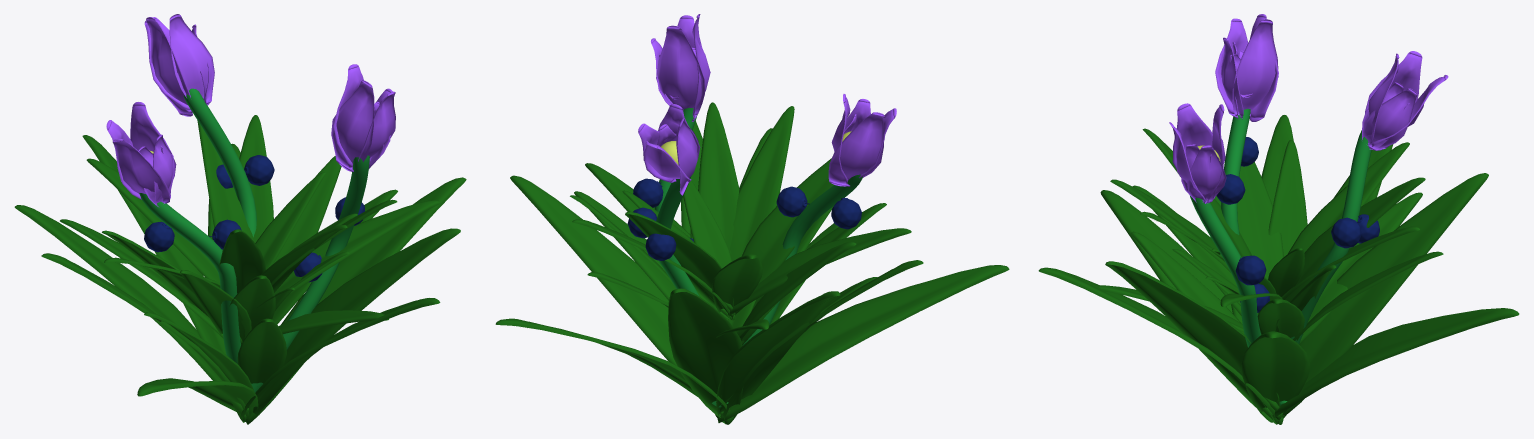
Rendered from Grass0.3.1.fbx.
3 renders of one model, left to right at view 1: azimuth 30°, elevation 25°; view 2: azimuth 150°, elevation 25°; view 3: azimuth 270°, elevation 25°, orthographic.
Visible parts, largest first — view 1: Leaf.009, Leaf.003, Leaf, Branch.002, Branch.001, petal.008, Branch, Leaf.032, petal.004, Leaf.006, Leaf.004, Leaf.039 (+29 smaller); view 2: Leaf.002, Leaf, Leaf.004, Leaf.033, Leaf.003, Leaf.038, petal.007, Leaf.034, petal.015, Leaf.035, Leaf.039, Leaf.005 (+23 smaller); view 3: Leaf.004, Leaf.009, Leaf.005, Leaf, Leaf.035, Leaf.002, Leaf.024, petal.014, Branch.001, Leaf.030, Branch, Leaf.001 (+30 smaller).
Part boxes in pixels (x1,y1,x2,y2): Leaf.009: [253, 228, 460, 414]; Leaf.003: [14, 205, 245, 416]; Leaf: [246, 177, 466, 424]; Branch.002: [139, 193, 240, 363]; Branch.001: [251, 155, 369, 392]; petal.008: [331, 80, 374, 171]; Branch: [183, 88, 256, 237]; Leaf.032: [274, 200, 440, 295]; petal.004: [169, 14, 214, 105]; Leaf.006: [237, 318, 286, 383]; Leaf.004: [82, 135, 243, 421]; Leaf.039: [197, 120, 253, 249]; Leaf.002: [717, 265, 1009, 422]; Leaf: [510, 175, 723, 414]; Leaf.004: [668, 288, 743, 420]; Leaf.033: [730, 106, 794, 315]; Leaf.003: [716, 291, 840, 422]; Leaf.038: [698, 102, 739, 319]; petal.007: [656, 25, 704, 114]; Leaf.034: [735, 158, 833, 313]; petal.015: [828, 112, 885, 186]; Leaf.035: [728, 228, 911, 315]; Leaf.039: [625, 212, 733, 320]; Leaf.005: [495, 318, 731, 417]; Leaf.004: [1283, 173, 1488, 415]; Leaf.009: [1105, 261, 1280, 424]; Leaf.005: [1272, 308, 1519, 417]; Leaf: [1241, 331, 1310, 422]; Leaf.035: [1237, 162, 1283, 279]; Leaf.002: [1100, 190, 1283, 424]; Leaf.024: [1268, 140, 1307, 256]; petal.014: [1232, 19, 1278, 116]; Branch.001: [1190, 196, 1282, 405]; Leaf.030: [1288, 142, 1409, 253]; Branch: [1291, 130, 1371, 343]; Leaf.001: [1038, 267, 1275, 418].
Size of the model in its own units: 1342 by 1124 by 1344.
